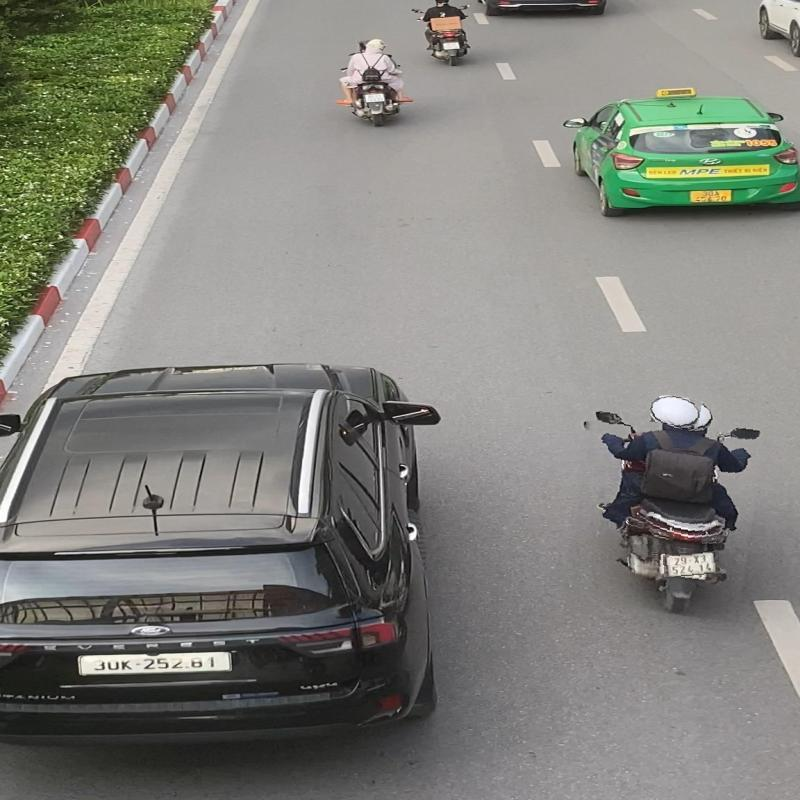helmet: (648, 392, 701, 427)
licenseplate: (663, 551, 720, 576)
motorcyclist: (568, 386, 761, 618)
